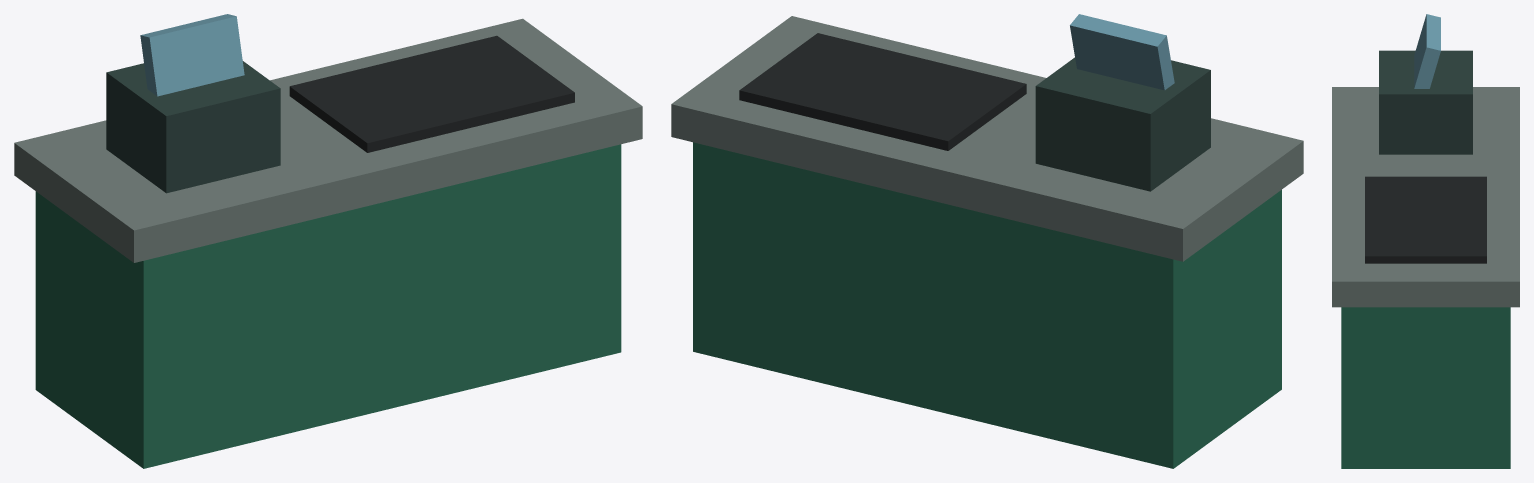
File: CheckoutCounter.obj
3 renders of one model, left to right at view 1: azimuth 30°, elevation 25°; view 2: azimuth 150°, elevation 25°; view 3: azimuth 270°, elevation 25°, orthographic. The views are drawn at different scales.
Parts seen in each view (by area): view 1: CheckoutCounter; view 2: CheckoutCounter; view 3: CheckoutCounter.
Part boxes in pixels (x1,y1,x2,y2): CheckoutCounter: (14,14,642,468); CheckoutCounter: (671,14,1303,468); CheckoutCounter: (1332,14,1519,468).
Size of the model in its own units: 2.45 by 1.73 by 1.
